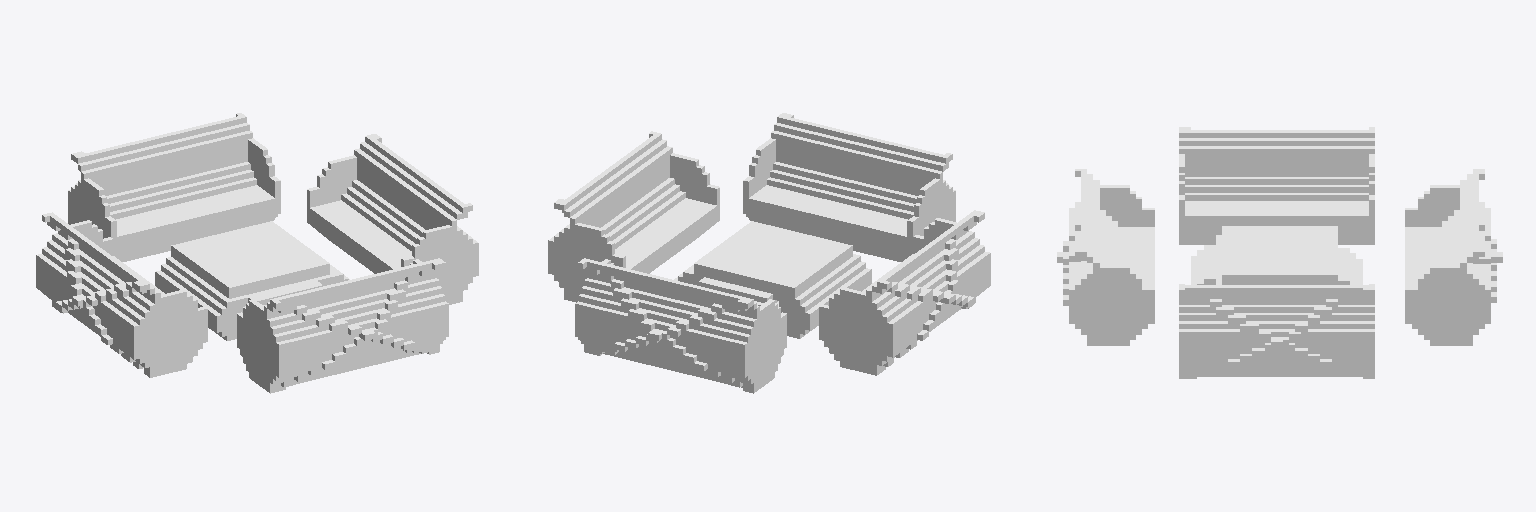
The model's file is gbench.obj.
The picture shows the model from 3 angles: view 1: azimuth 30°, elevation 25°; view 2: azimuth 150°, elevation 25°; view 3: azimuth 270°, elevation 25°; orthographic projection.
Visible parts, largest first — view 1: object 1; view 2: object 1; view 3: object 1.
Boxes of the visible parts, box(x1,y1,x2,y2) form: object 1: box(36, 113, 478, 393); object 1: box(548, 113, 990, 393); object 1: box(1057, 127, 1502, 378).
Bounding box in the file's own units: 6.9 × 1.7 × 7.3.